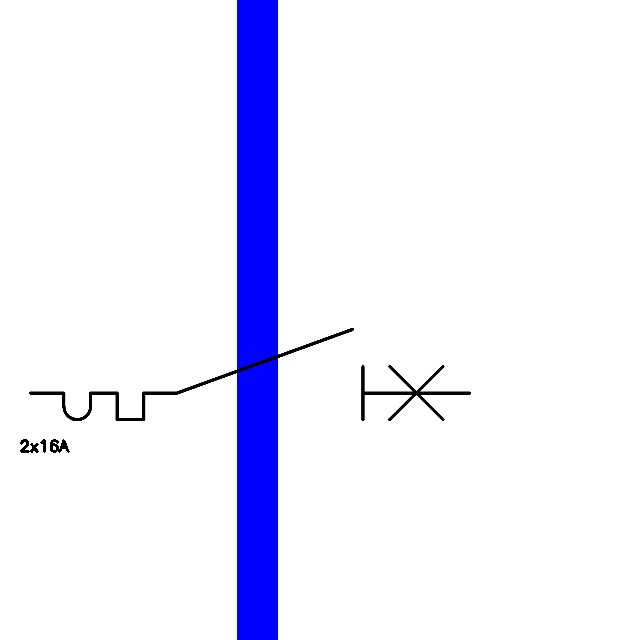interruptor_termomagnetico: (19, 318, 481, 431)
